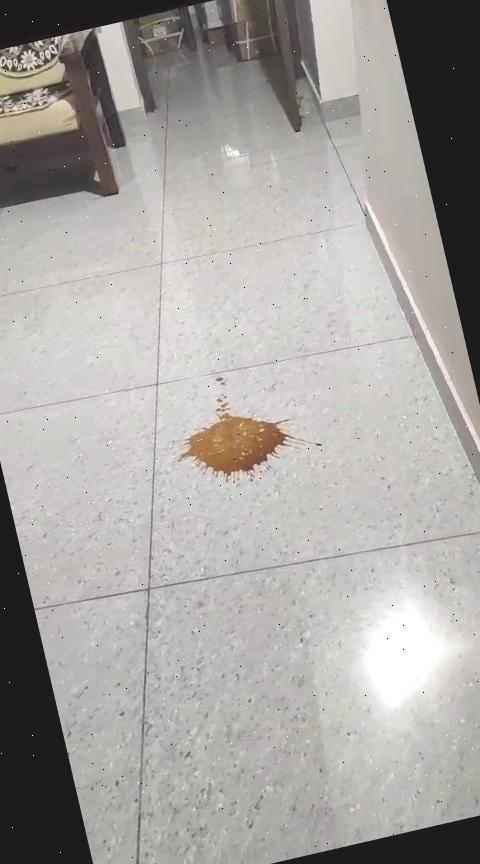dirty_floor: (160, 355, 321, 491)
